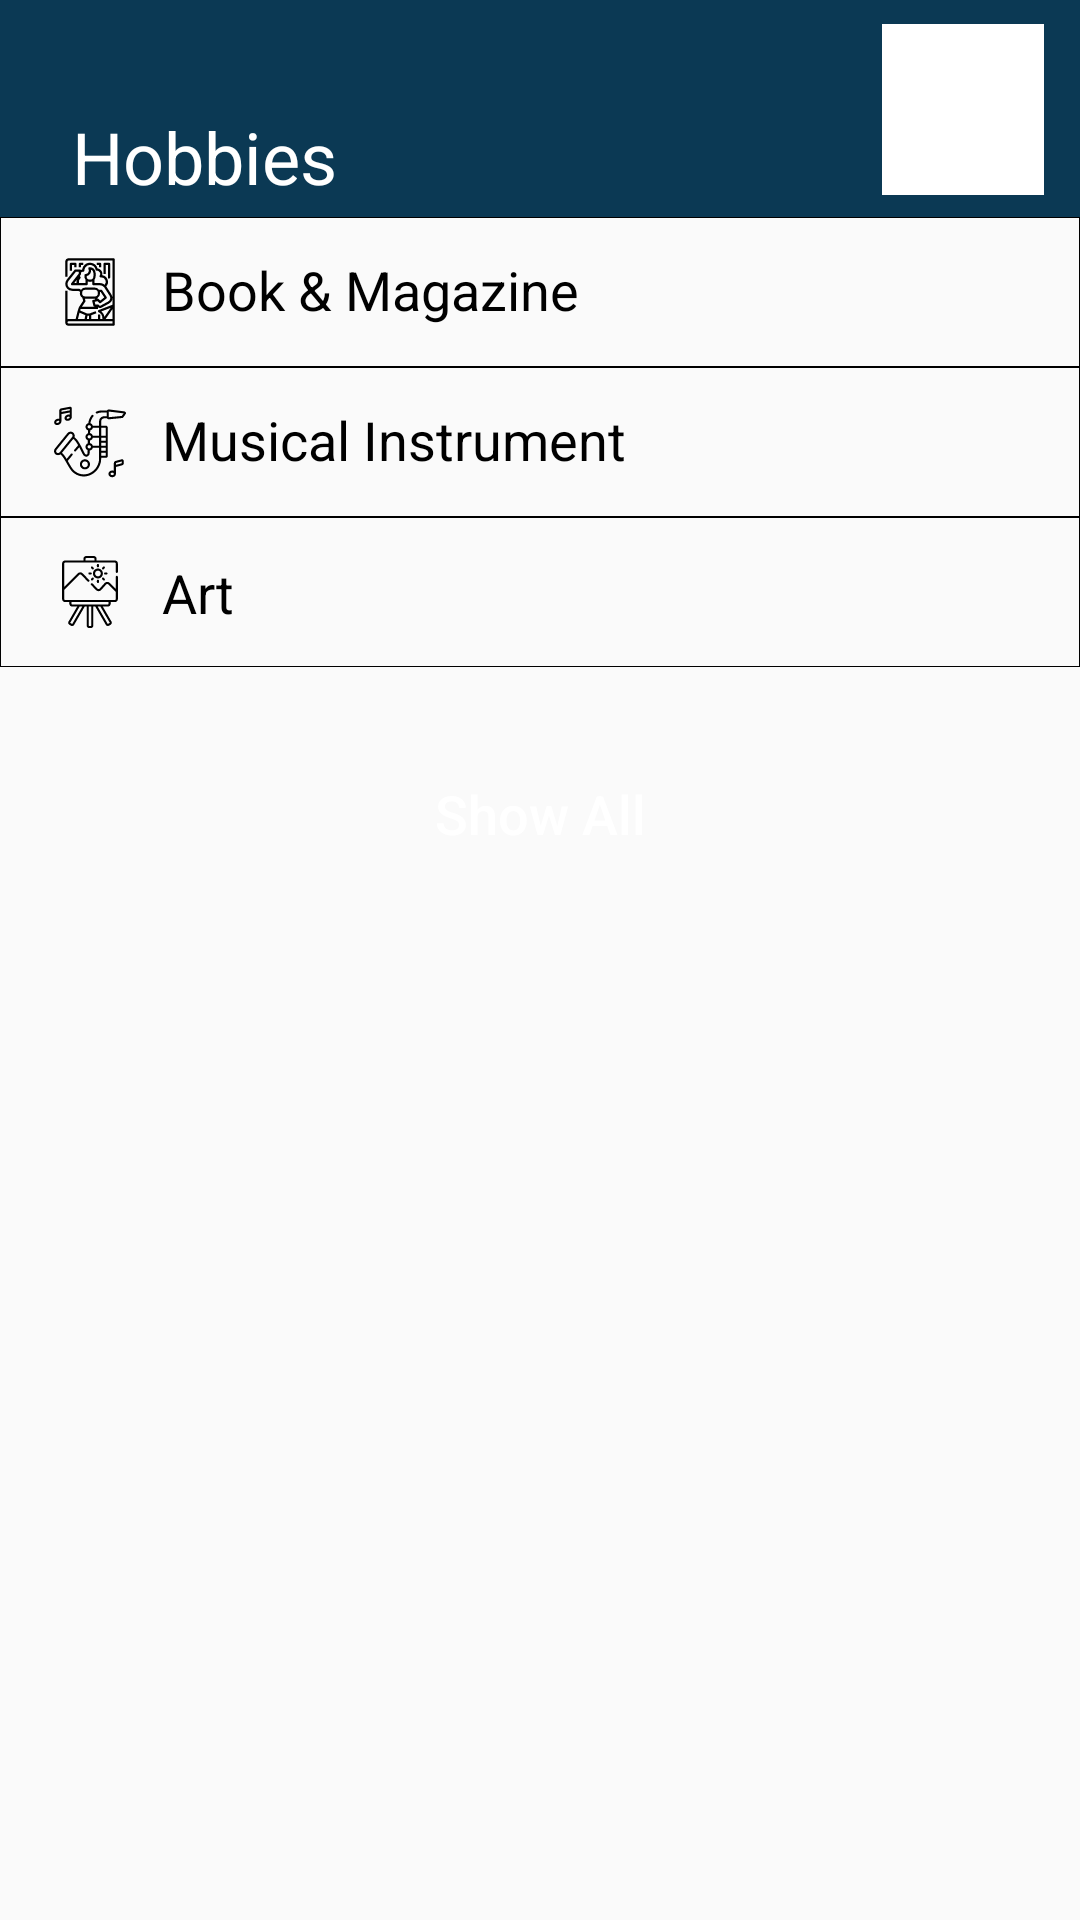

Point at icon controls on the screen. Image size 1080×1920, points as [x,y].
painting: [90,592]
saxophone: [90,442]
